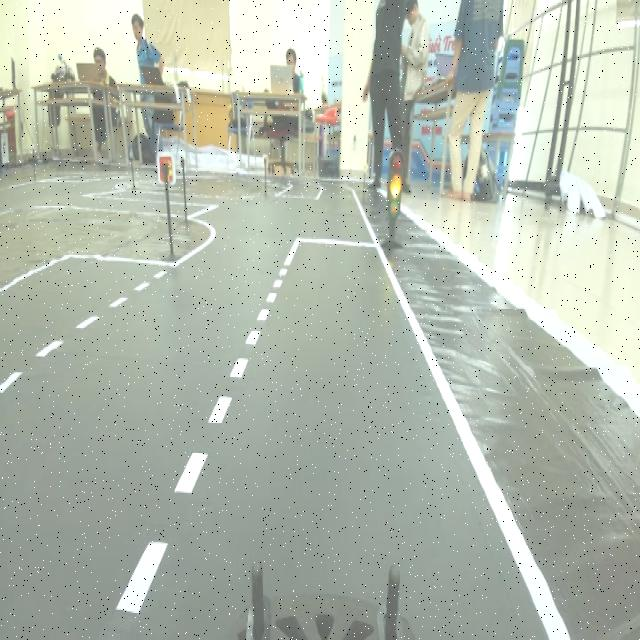trafficlight: (379, 150, 409, 262)
